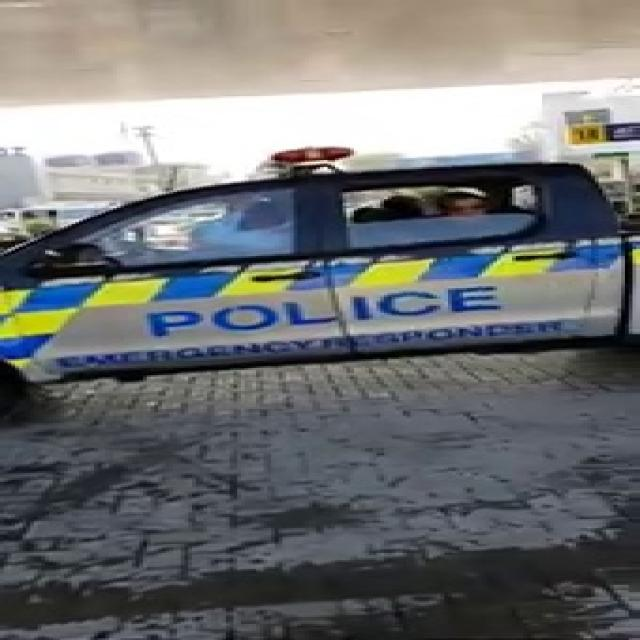police: (0, 160, 640, 364)
